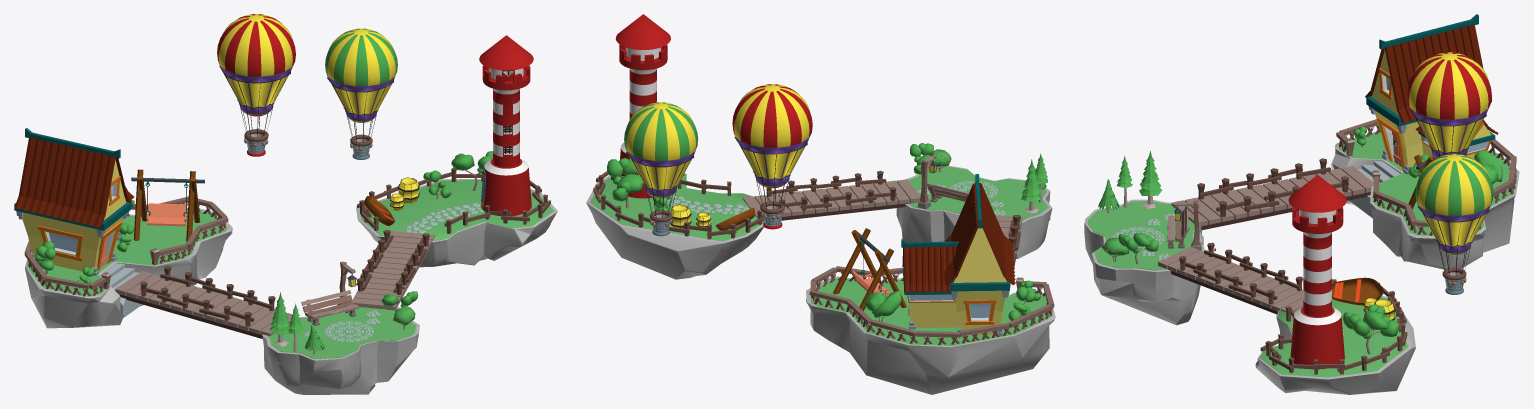
The model's file is sceneAccueil.glb.
3 views of the same model, side by side, from view 1: azimuth 30°, elevation 25°; view 2: azimuth 150°, elevation 25°; view 3: azimuth 270°, elevation 25° (orthographic). The views are drawn at different scales.
Visible parts, largest first — view 1: sea village.143, sea village.021, sea village.031, sea village.430, sea village.001, sea village.029, sea village.404, sea village.756, sea village.755, sea village.224, sea village.431, sea village.405 (+11 smaller); view 2: sea village.143, sea village.404, sea village.031, sea village.029, sea village.755, sea village.224, sea village.217, sea village.021, sea village.405, sea village.756, sea village.430, sea village.431 (+11 smaller); view 3: sea village.143, sea village.021, sea village.031, sea village.029, sea village.001, sea village.404, sea village.224, sea village.430, sea village.431, sea village.755, sea village.756, sea village.405 (+10 smaller).
Boxes of the visible parts, x1=… form: sea village.143: x1=14, y1=128, x2=134, y2=275; sea village.021: x1=479, y1=35, x2=533, y2=216; sea village.031: x1=217, y1=14, x2=295, y2=156; sea village.430: x1=262, y1=301, x2=419, y2=394; sea village.001: x1=115, y1=266, x2=292, y2=338; sea village.029: x1=325, y1=28, x2=397, y2=159; sea village.404: x1=25, y1=207, x2=232, y2=328; sea village.756: x1=361, y1=180, x2=553, y2=240; sea village.755: x1=356, y1=179, x2=557, y2=267; sea village.224: x1=351, y1=230, x2=435, y2=310; sea village.431: x1=267, y1=307, x2=415, y2=358; sea village.405: x1=26, y1=208, x2=227, y2=296; sea village.143: x1=901, y1=174, x2=1015, y2=336; sea village.404: x1=806, y1=276, x2=1055, y2=394; sea village.031: x1=732, y1=84, x2=812, y2=229; sea village.029: x1=624, y1=102, x2=698, y2=236; sea village.755: x1=586, y1=173, x2=763, y2=279; sea village.224: x1=742, y1=170, x2=920, y2=220; sea village.217: x1=809, y1=266, x2=1054, y2=345; sea village.021: x1=615, y1=14, x2=670, y2=198; sea village.405: x1=811, y1=278, x2=1050, y2=345; sea village.756: x1=590, y1=173, x2=764, y2=241; sea village.430: x1=896, y1=165, x2=1052, y2=258; sea village.431: x1=908, y1=166, x2=1048, y2=220; sea village.143: x1=1365, y1=14, x2=1498, y2=174; sea village.021: x1=1288, y1=175, x2=1346, y2=368; sea village.031: x1=1407, y1=52, x2=1491, y2=159; sea village.029: x1=1415, y1=154, x2=1493, y2=294; sea village.001: x1=1171, y1=158, x2=1373, y2=230; sea village.404: x1=1330, y1=131, x2=1519, y2=269; sea village.224: x1=1158, y1=242, x2=1303, y2=314; sea village.430: x1=1084, y1=199, x2=1204, y2=325; sea village.431: x1=1087, y1=201, x2=1202, y2=270; sea village.755: x1=1255, y1=296, x2=1415, y2=394; sea village.756: x1=1260, y1=297, x2=1407, y2=377; sea village.405: x1=1339, y1=132, x2=1517, y2=235.
Bounding box in the file's own units: 28.4 × 14.7 × 20.99.
19 materials, 19 textured.
